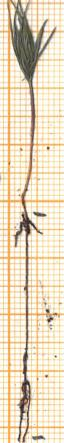flower: (6, 0, 64, 86)
root: (14, 214, 43, 441)
stem: (19, 89, 40, 212)
